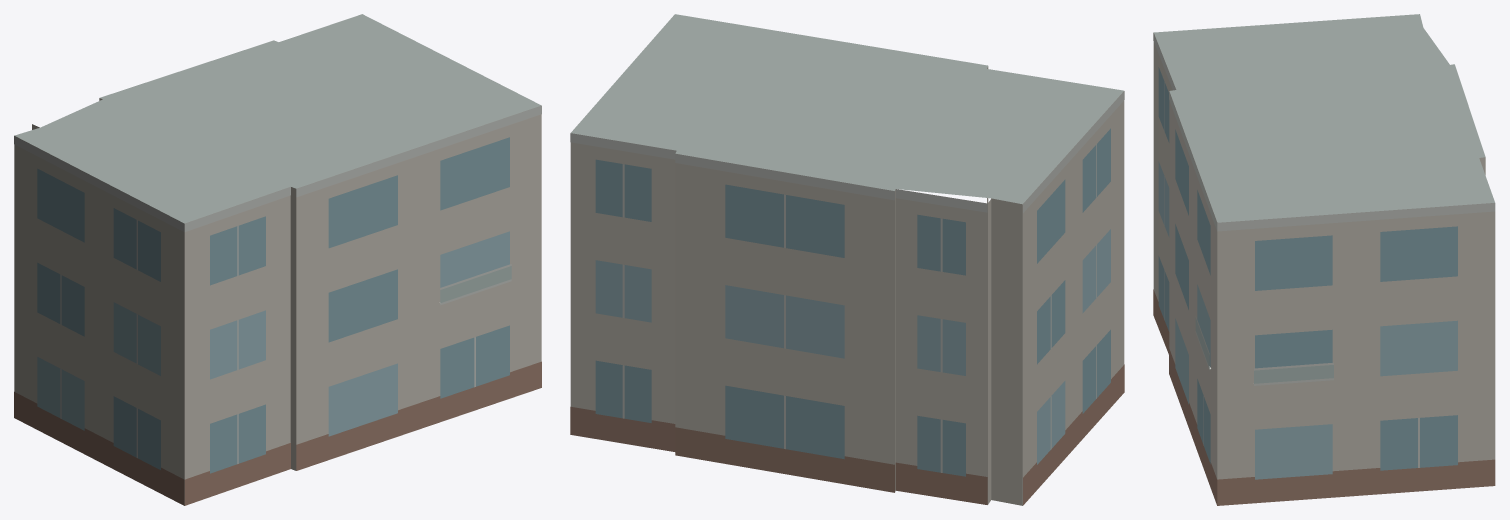
Rendered from survey-upis-32576873.glb.
The picture shows the model from 3 angles, left to right: view 1: azimuth 30°, elevation 25°; view 2: azimuth 150°, elevation 25°; view 3: azimuth 270°, elevation 25°; orthographic projection. The views are drawn at different scales.
Visible parts, largest first — view 1: survey-upis-32576873.tmp; view 2: survey-upis-32576873.tmp; view 3: survey-upis-32576873.tmp.
Boxes of the visible parts, box(x1,y1,x2,y2) form: survey-upis-32576873.tmp: box(14, 14, 541, 505); survey-upis-32576873.tmp: box(570, 14, 1124, 505); survey-upis-32576873.tmp: box(1153, 14, 1495, 505).
Size of the model in its own units: 12.5 by 7.9 by 8.65.
